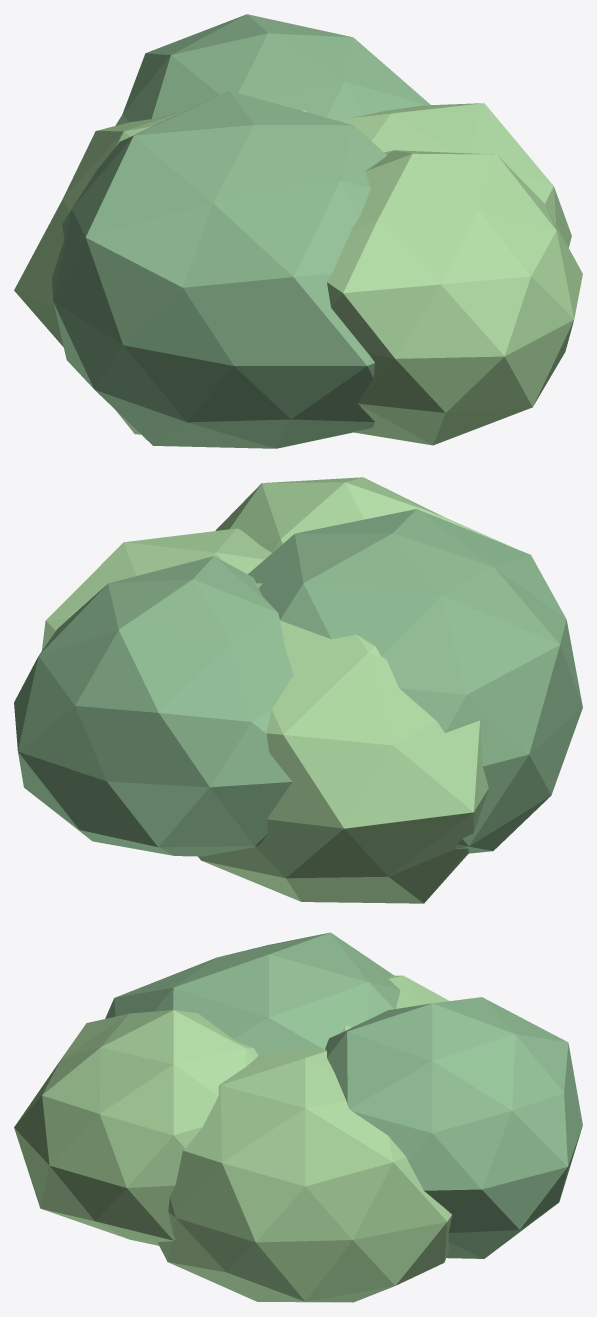
Rendered from bush_b.glb.
The picture shows the model from 3 angles, top to bottom: view 1: azimuth 30°, elevation 25°; view 2: azimuth 150°, elevation 25°; view 3: azimuth 270°, elevation 25°; orthographic projection. The views are drawn at different scales.
Parts seen in each view (by area): view 1: bush_b; view 2: bush_b; view 3: bush_b.
Boxes of the visible parts, left/top/right/bottom form: bush_b: left=14, top=14, right=582, bottom=448; bush_b: left=14, top=477, right=582, bottom=903; bush_b: left=14, top=932, right=582, bottom=1302.
Bounding box in the file's own units: 1.27 × 0.8439 × 1.5.
